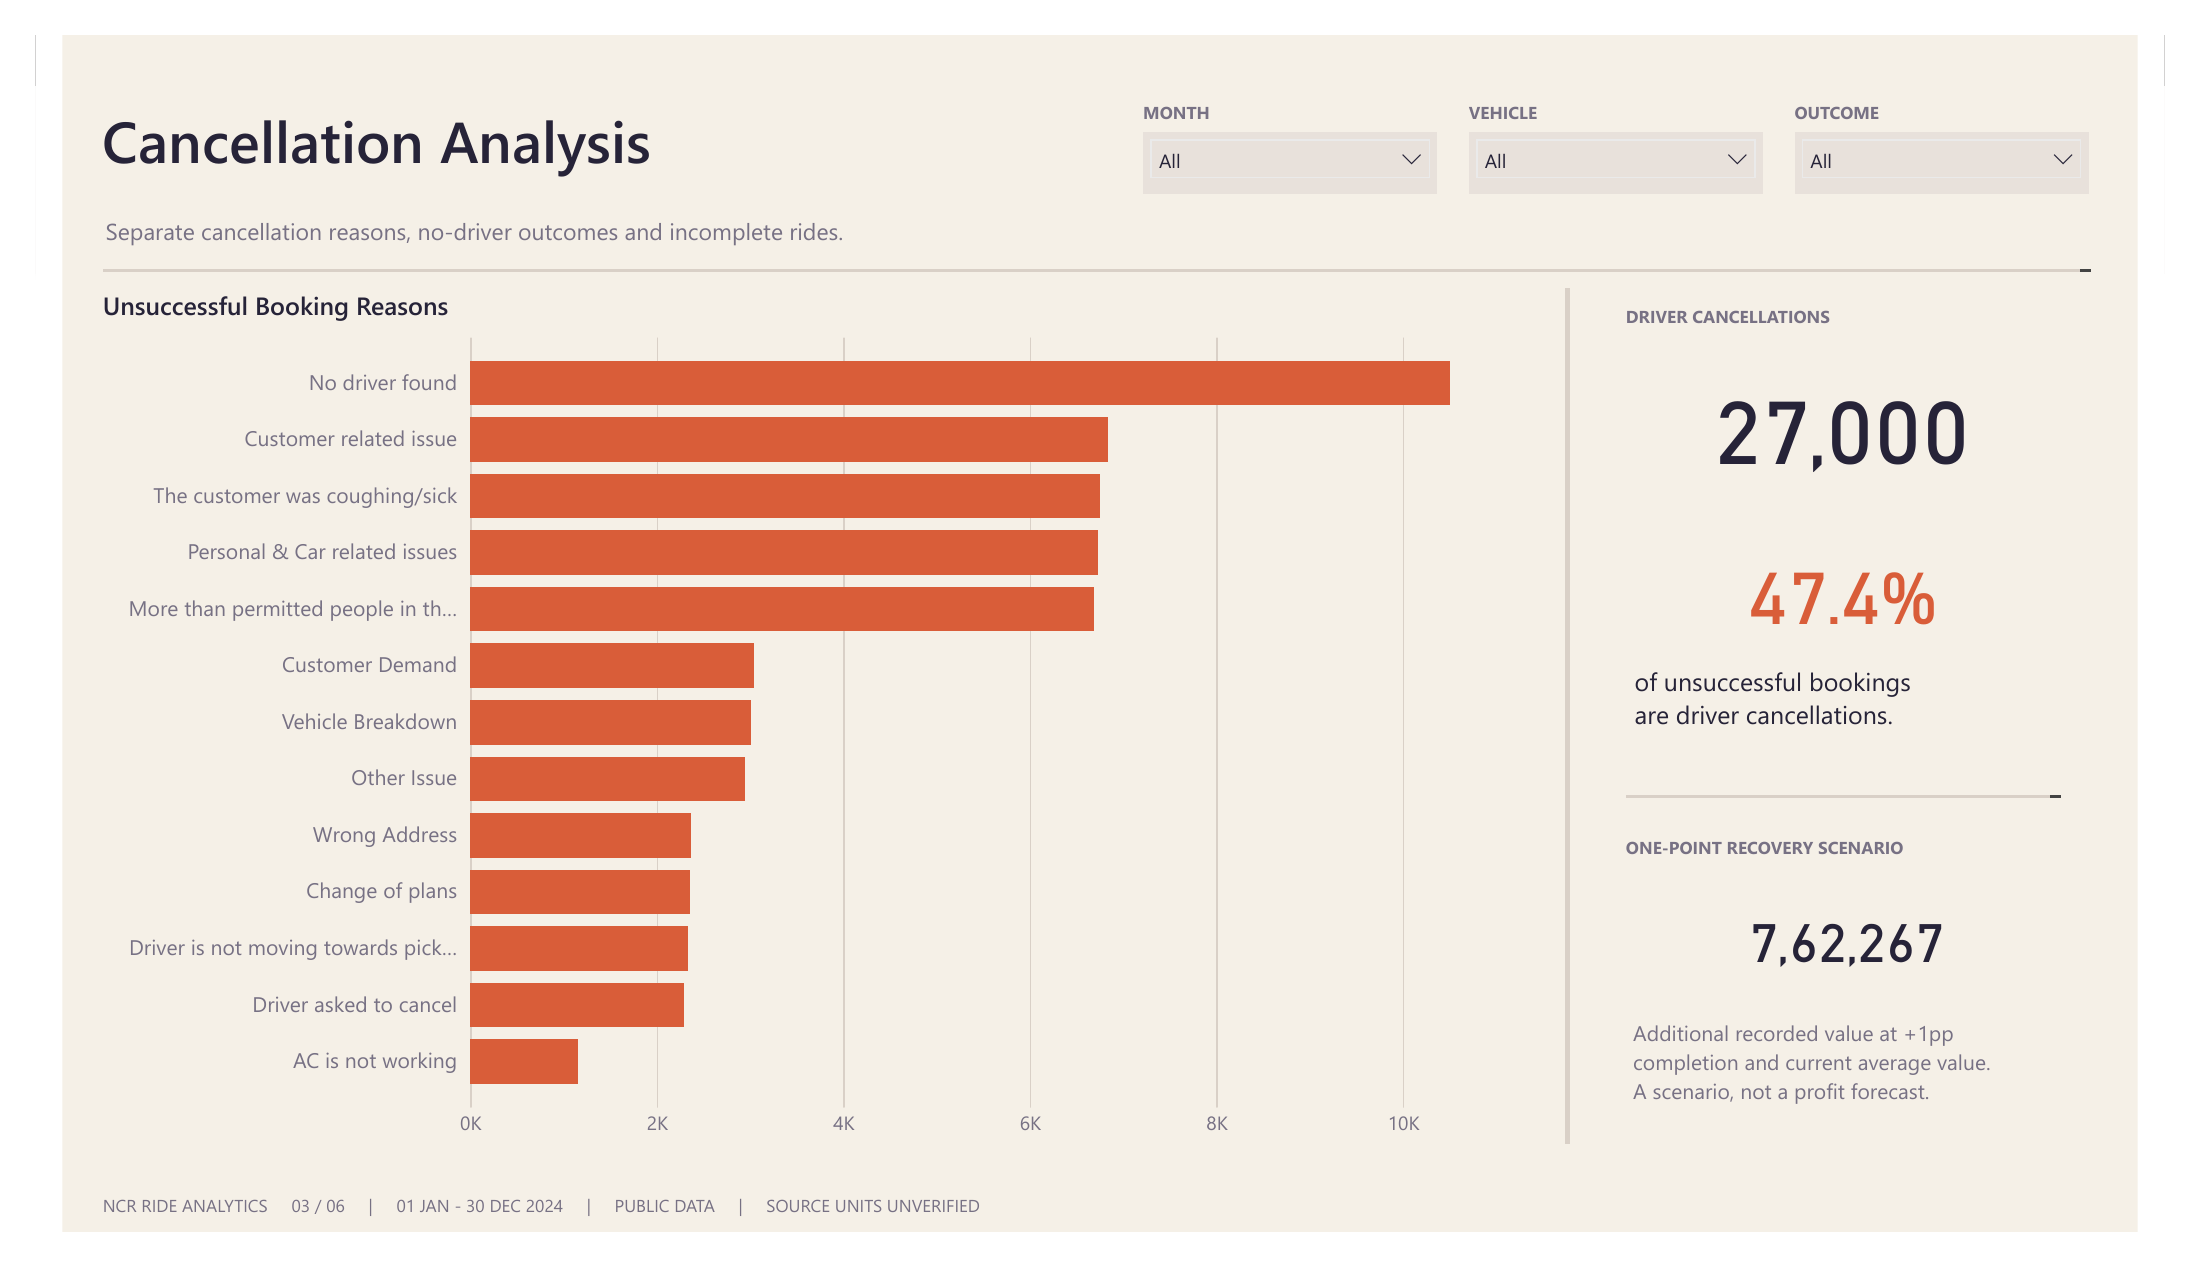

Layout of this report page (visuals, bound fields, positions):
{"tool":"powerbi","page":{"name":"03 / Cancellations","canvas":[1440,810],"ordinal":2},"visuals":[{"type":"textbox","box":[28,26,680,62],"z":39},{"type":"textbox","box":[750,23,204,20],"z":40},{"type":"slicer","fields":{"Values":["Calendar.month"]},"box":[750,47,204,43],"z":41},{"type":"textbox","box":[976,23,204,20],"z":42},{"type":"slicer","fields":{"Values":["Vehicle.vehicle_type"]},"box":[976,47,204,43],"z":43},{"type":"textbox","box":[1202,23,204,20],"z":44},{"type":"slicer","fields":{"Values":["Status.status"]},"box":[1202,47,204,43],"z":45},{"type":"textbox","box":[30,105,1376,32],"z":46},{"type":"textbox","box":[28,142,1380,2],"z":47},{"type":"textbox","box":[28,782,1380,24],"z":48},{"type":"barChart","title":"Unsuccessful Booking Reasons","fields":{"Category":["Bookings.failure_reason"],"Y":["Bookings.Failure Rows"]},"box":[28,155,979.2,595],"z":49},{"type":"textbox","box":[1043.2,155,2.3,594],"z":50},{"type":"textbox","box":[1085.1,165,313.6,25],"z":51},{"type":"card","fields":{"Values":["Bookings.Driver Cancellations"]},"box":[1064.2,196,341.5,104],"z":52},{"type":"card","fields":{"Values":["Bookings.Driver Failure Share"]},"box":[1073.5,319,325.2,92],"z":53},{"type":"textbox","box":[1090.9,416,306.7,60],"z":54},{"type":"textbox","box":[1085.1,507,302,2],"z":55},{"type":"textbox","box":[1085.1,533,302,25],"z":56},{"type":"card","fields":{"Values":["Bookings.Recovery Value 1pp"]},"box":[1075.8,568,325.2,77],"z":57},{"type":"textbox","box":[1089.7,662,305.5,82],"z":58}]}

Visuals, with their boxes in screenshot pixels (x1, y1, x2, y2), scaled from the page's 1440x810 canvas onto the 2200x1268 screenshot:
textbox: 43 41 1082 138
textbox: 1146 36 1458 67
slicer - Calendar.month: 1146 74 1458 141
textbox: 1491 36 1803 67
slicer - Vehicle.vehicle_type: 1491 74 1803 141
textbox: 1836 36 2148 67
slicer - Status.status: 1836 74 2148 141
textbox: 46 164 2148 214
textbox: 43 222 2151 225
textbox: 43 1224 2151 1262
"Unsuccessful Booking Reasons" barChart: 43 243 1539 1174
textbox: 1594 243 1597 1173
textbox: 1658 258 2137 297
card - Bookings.Driver Cancellations: 1626 307 2148 470
card - Bookings.Driver Failure Share: 1640 499 2137 643
textbox: 1667 651 2135 745
textbox: 1658 794 2119 797
textbox: 1658 834 2119 874
card - Bookings.Recovery Value 1pp: 1644 889 2140 1010
textbox: 1665 1036 2132 1165
